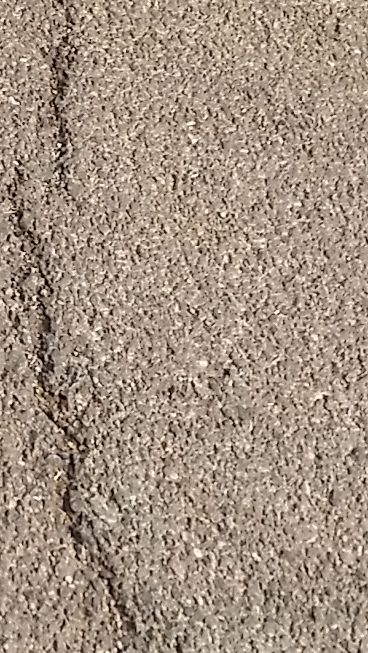A: (13, 1, 185, 647)
